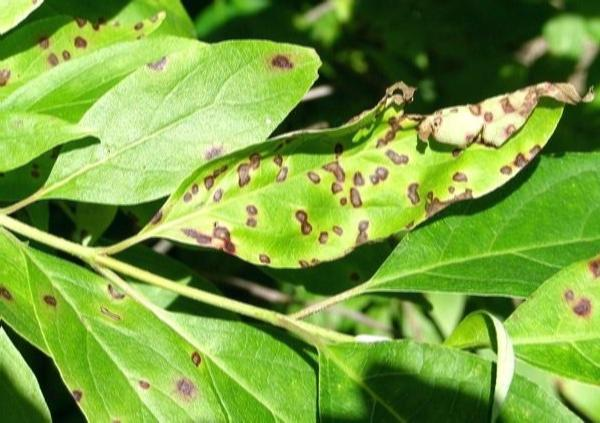Tomato leaf bacterial spot: (133, 64, 583, 278), (49, 26, 336, 205)
